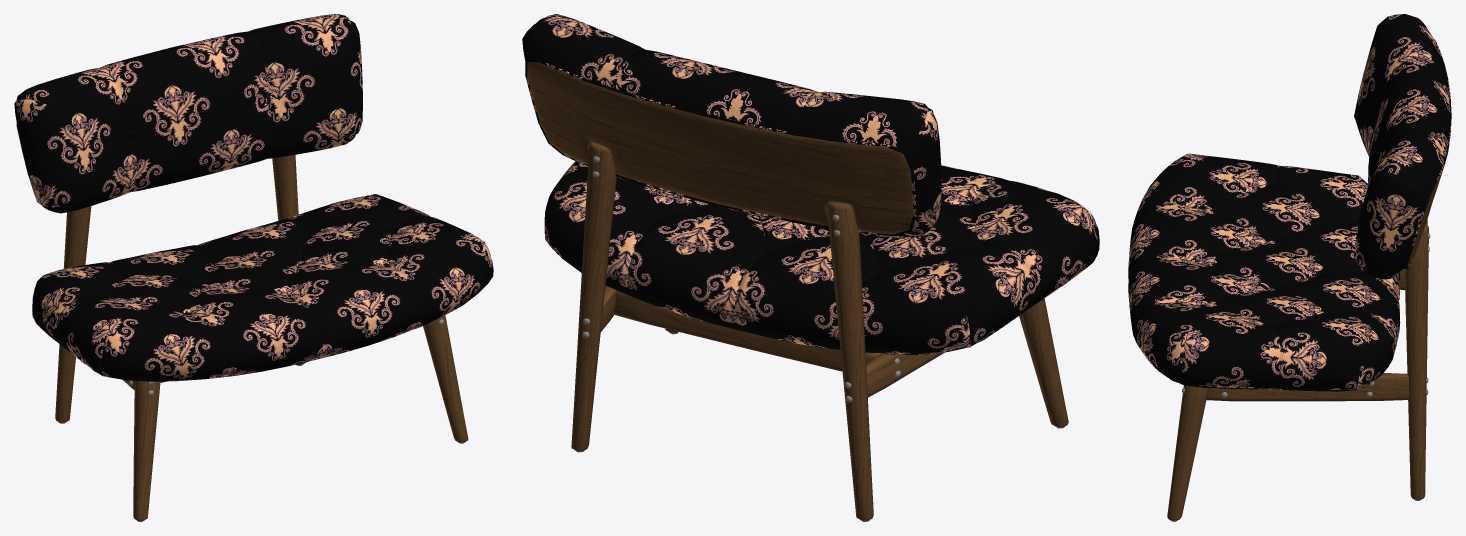
The model's file is ChairDamaskPurplegold.glb.
3 renders of one model, left to right at view 1: azimuth 30°, elevation 25°; view 2: azimuth 150°, elevation 25°; view 3: azimuth 270°, elevation 25°, orthographic. The views are drawn at different scales.
Visible parts, largest first — view 1: oval-tufted-chair_seat-fabric, oval-tufted-chair_back-fabric, oval-tufted-chair_legs-frame; view 2: oval-tufted-chair_seat-fabric, oval-tufted-chair_back-panel, oval-tufted-chair_legs-frame, oval-tufted-chair_back-fabric, oval-tufted-chair_back-welt; view 3: oval-tufted-chair_seat-fabric, oval-tufted-chair_back-fabric, oval-tufted-chair_legs-frame, oval-tufted-chair_back-welt, oval-tufted-chair_back-panel.
Part boxes in pixels (bbox=[...]): oval-tufted-chair_seat-fabric: bbox=[32, 194, 493, 380]; oval-tufted-chair_back-fabric: bbox=[14, 14, 362, 213]; oval-tufted-chair_legs-frame: bbox=[55, 155, 468, 520]; oval-tufted-chair_seat-fabric: bbox=[544, 161, 1099, 354]; oval-tufted-chair_back-panel: bbox=[527, 62, 913, 234]; oval-tufted-chair_legs-frame: bbox=[571, 142, 1068, 520]; oval-tufted-chair_back-fabric: bbox=[522, 14, 941, 237]; oval-tufted-chair_back-welt: bbox=[525, 58, 916, 236]; oval-tufted-chair_seat-fabric: bbox=[1128, 153, 1400, 390]; oval-tufted-chair_back-fabric: bbox=[1354, 14, 1450, 279]; oval-tufted-chair_legs-frame: bbox=[1167, 219, 1428, 520]; oval-tufted-chair_back-welt: bbox=[1404, 39, 1451, 268]; oval-tufted-chair_back-panel: bbox=[1407, 169, 1443, 266].
Bounding box in the file's own units: 0.8286 × 0.6874 × 0.5718.
Materials: 4 (3 with a texture image).
